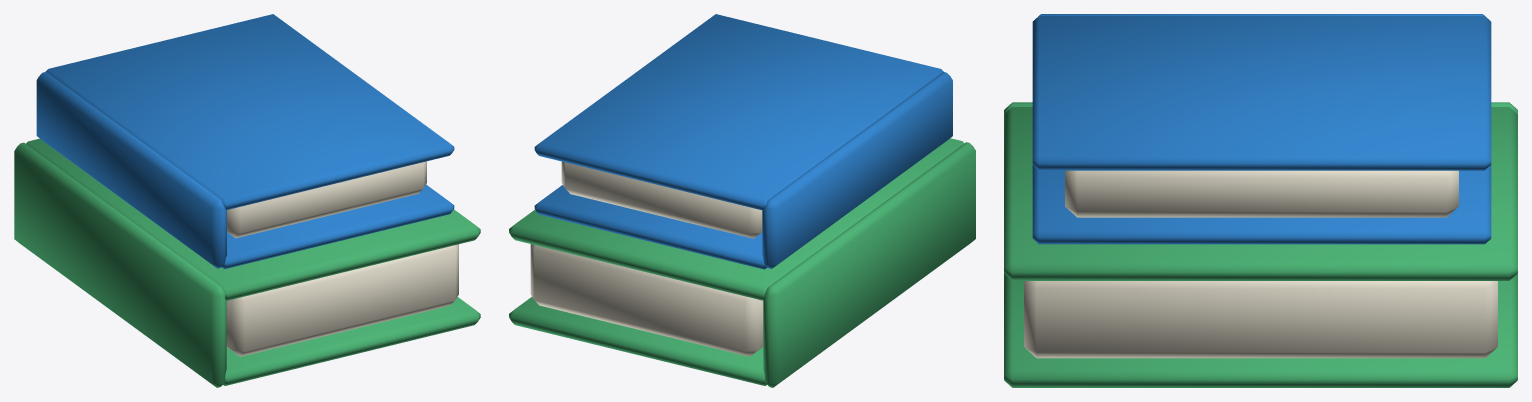
Rendered from livros.fbx.
3 views of the same model, side by side, from view 1: azimuth 30°, elevation 25°; view 2: azimuth 150°, elevation 25°; view 3: azimuth 270°, elevation 25° (orthographic). The views are drawn at different scales.
Parts seen in each view (by area): view 1: Livro_01, Livro_02; view 2: Livro_01, Livro_02; view 3: Livro_01, Livro_02.
Boxes of the visible parts, x1=… form: Livro_01: x1=36, y1=14, x2=454, y2=269; Livro_02: x1=14, y1=138, x2=480, y2=387; Livro_01: x1=534, y1=14, x2=952, y2=269; Livro_02: x1=509, y1=138, x2=975, y2=387; Livro_01: x1=1032, y1=14, x2=1491, y2=244; Livro_02: x1=1004, y1=102, x2=1517, y2=387.
Size of the model in its own units: 78.46 by 49.48 by 103.
